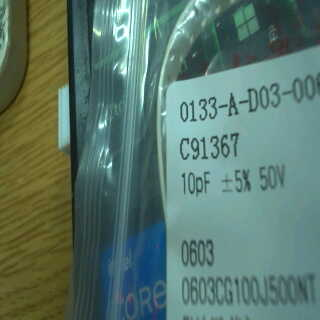10pF: (174, 162, 219, 206)
